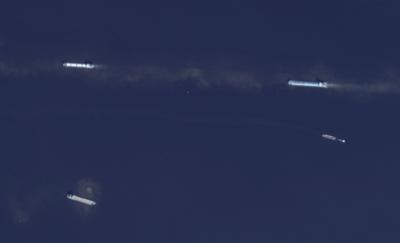Ships: (57, 51, 107, 88), (64, 175, 99, 224), (280, 74, 335, 101), (320, 119, 356, 155)
